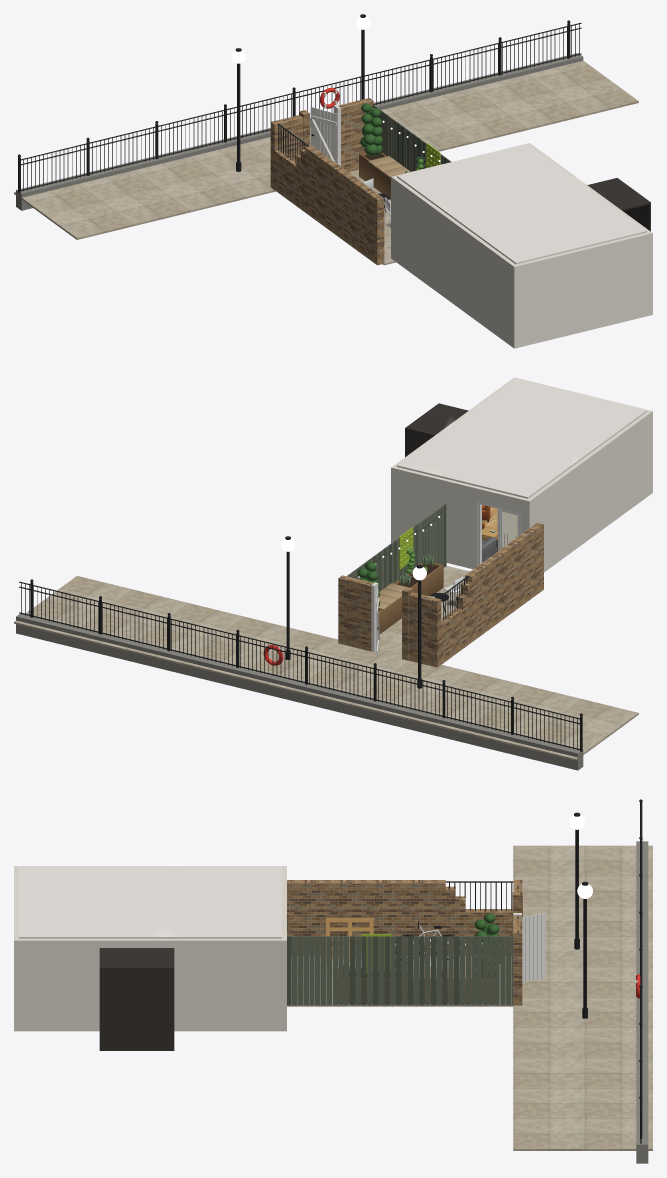
Rendered from room.glb.
The picture shows the model from 3 angles, top to bottom: view 1: azimuth 30°, elevation 25°; view 2: azimuth 150°, elevation 25°; view 3: azimuth 270°, elevation 25°; orthographic projection. The views are drawn at different scales.
Parts seen in each view (by area): view 1: Paint_Matte, Paving, Brick, Paint_Metal, Paint_Satin, Sway_plant4; view 2: Paint_Matte, Paving, Brick, Paint_Metal, Paint_Sheen, Paint_Satin; view 3: Paint_Matte, Paving, Brick, Paint_Metal, Paint_Satin, Sway_plant4.
Part boxes in pixels (<box>): Paint_Matte: <box>16,53,652,348</box>; Paving: <box>14,60,638,265</box>; Brick: <box>270,98,384,265</box>; Paint_Metal: <box>18,14,581,212</box>; Paint_Satin: <box>310,87,340,166</box>; Sway_plant4: <box>360,103,382,155</box>; Paint_Matte: <box>16,377,652,770</box>; Paving: <box>14,566,638,760</box>; Brick: <box>338,522,543,667</box>; Paint_Metal: <box>19,536,582,751</box>; Paint_Sheen: <box>352,502,521,629</box>; Paint_Satin: <box>263,525,497,665</box>; Paint_Matte: <box>14,841,648,1163</box>; Paving: <box>287,845,652,1150</box>; Brick: <box>287,880,522,1005</box>; Paint_Metal: <box>395,799,642,1143</box>; Paint_Satin: <box>395,913,640,998</box>; Sway_plant4: <box>474,913,500,976</box>.
Size of the model in its own units: 18.04 by 4.12 by 16.02.
Materials: 26 (12 with a texture image).
